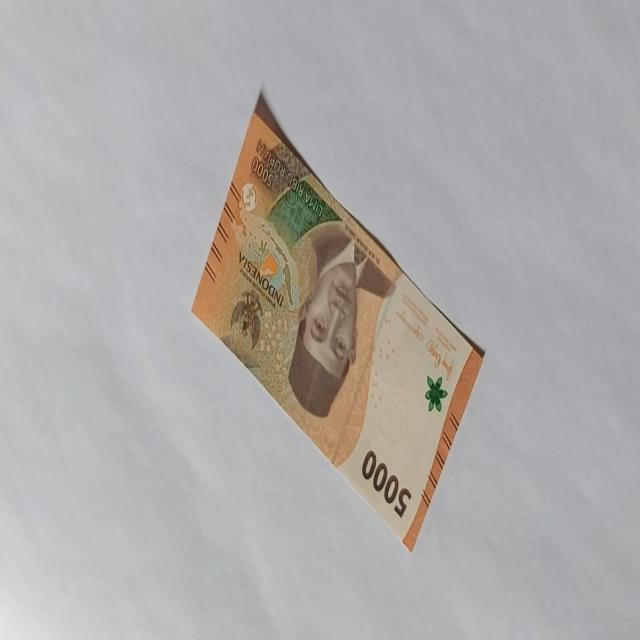lima ribu rupiah: (190, 89, 486, 553)
